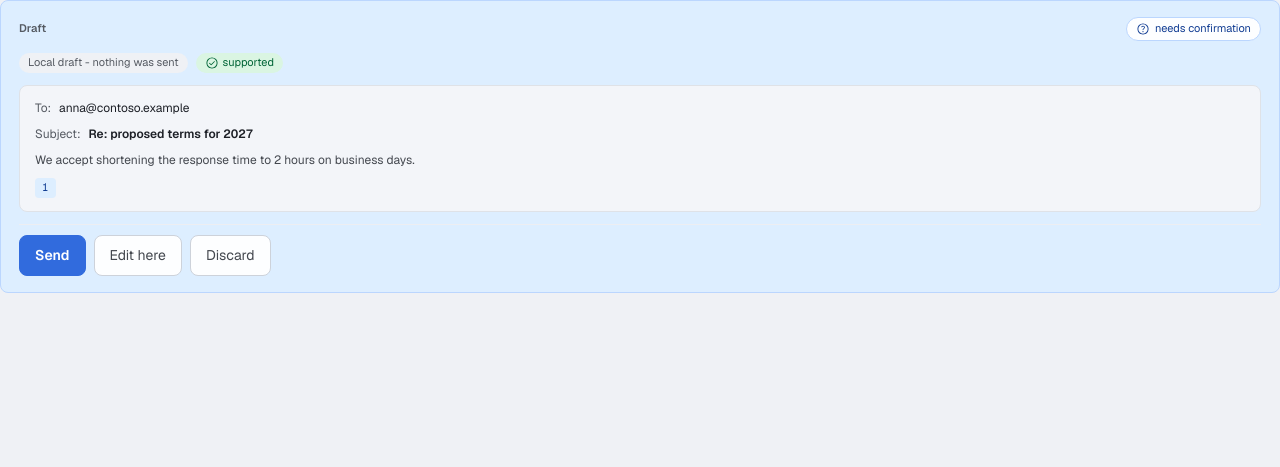
Test: Draft › in a conversation › swaps the controls for sending and for stopping while the text is open, and keeps what was typed
Click the button named "Edit here - the draft to anna@contoso.example, inside the conversation": (138, 256) x1=94 y1=235 x2=182 y2=276
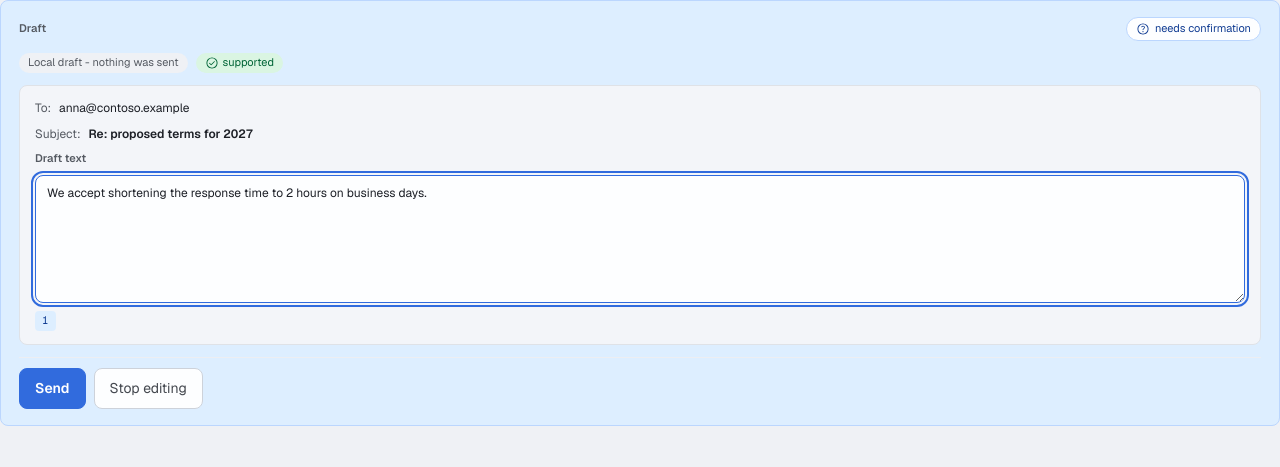
Check: the button with aria-label "Send the edited draft to anna@contoso.example" is shown, box x1=19 y1=368 x2=86 y2=409
Replace the text in the text box labelled "Draft text" with "Agreed.": (640, 239) x1=35 y1=175 x2=1245 y2=303
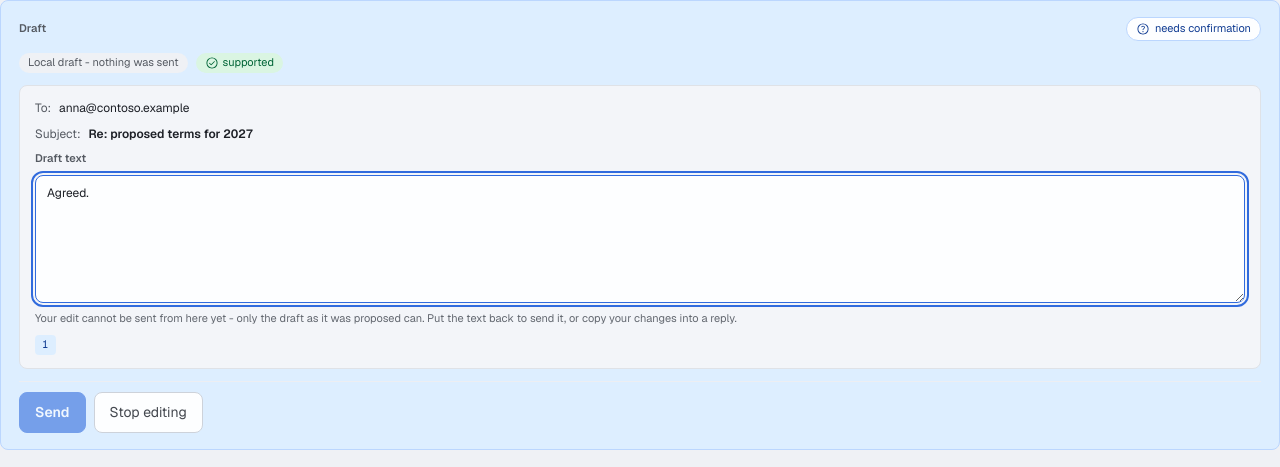
Click the button with aria-label "Stop editing the draft to anna@contoso.example": (148, 412) x1=94 y1=392 x2=203 y2=433
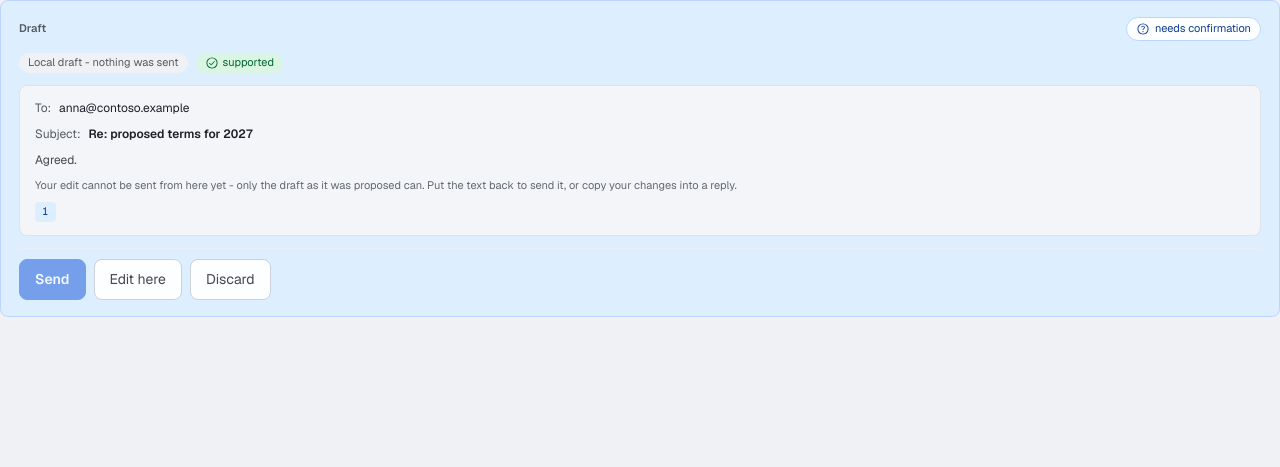
Check: the text "Agreed." is shown, box x1=35 y1=152 x2=77 y2=168
